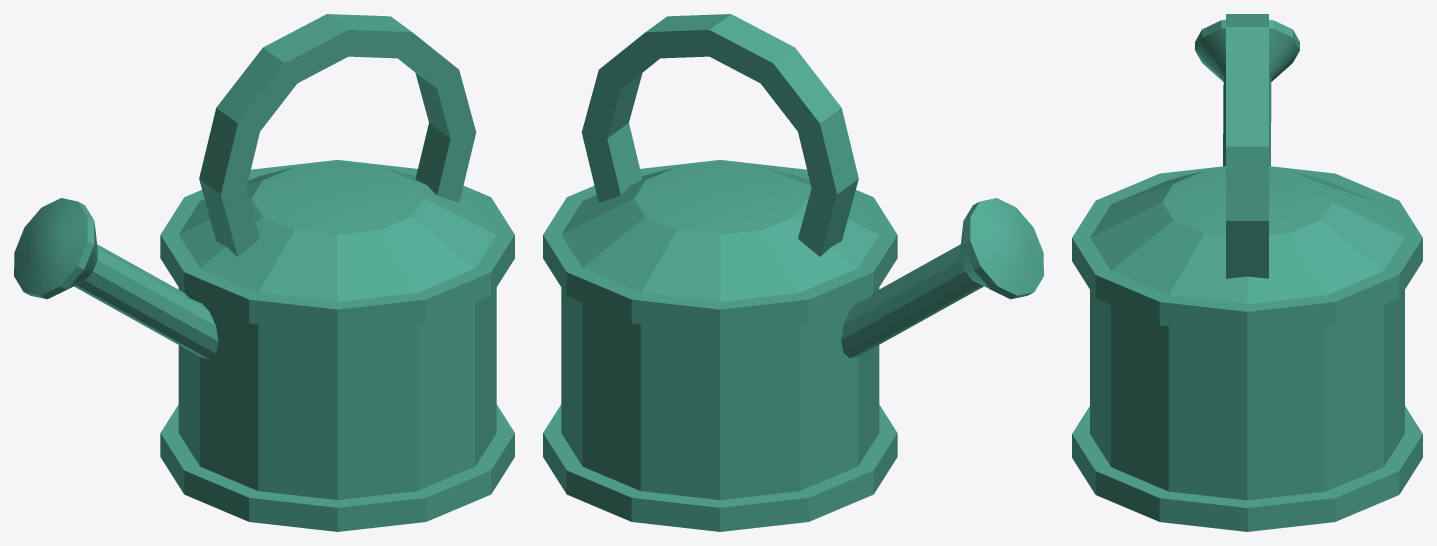
Rendered from WateringCan.fbx.
3 renders of one model, left to right at view 1: azimuth 30°, elevation 25°; view 2: azimuth 150°, elevation 25°; view 3: azimuth 270°, elevation 25°, orthographic.
Visible parts, largest first — view 1: WateringCanCylinder, WateringCanHandle, WateringCanSpout; view 2: WateringCanCylinder, WateringCanHandle, WateringCanSpout; view 3: WateringCanCylinder, WateringCanHandle, WateringCanSpout.
Boxes of the visible parts, x1=… form: WateringCanCylinder: x1=160, y1=160, x2=514, y2=531; WateringCanHandle: x1=199, y1=14, x2=476, y2=256; WateringCanSpout: x1=14, y1=198, x2=218, y2=359; WateringCanCylinder: x1=543, y1=160, x2=897, y2=531; WateringCanHandle: x1=581, y1=14, x2=858, y2=256; WateringCanSpout: x1=841, y1=198, x2=1043, y2=358; WateringCanCylinder: x1=1072, y1=166, x2=1422, y2=531; WateringCanHandle: x1=1226, y1=14, x2=1268, y2=278; WateringCanSpout: x1=1195, y1=19, x2=1299, y2=166.
Size of the model in its own units: 1.23 by 1.1 by 0.81.
